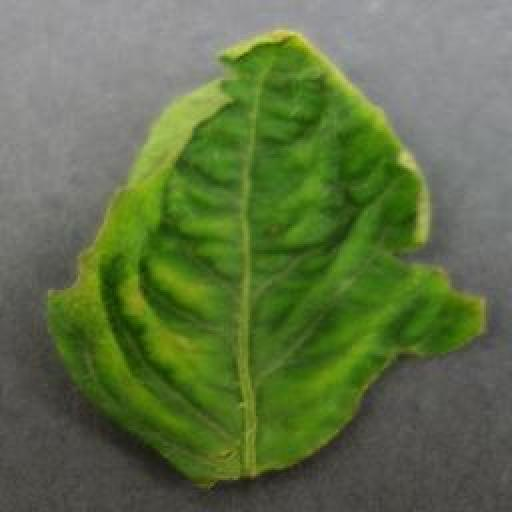disease_tomato: (38, 26, 486, 488)
